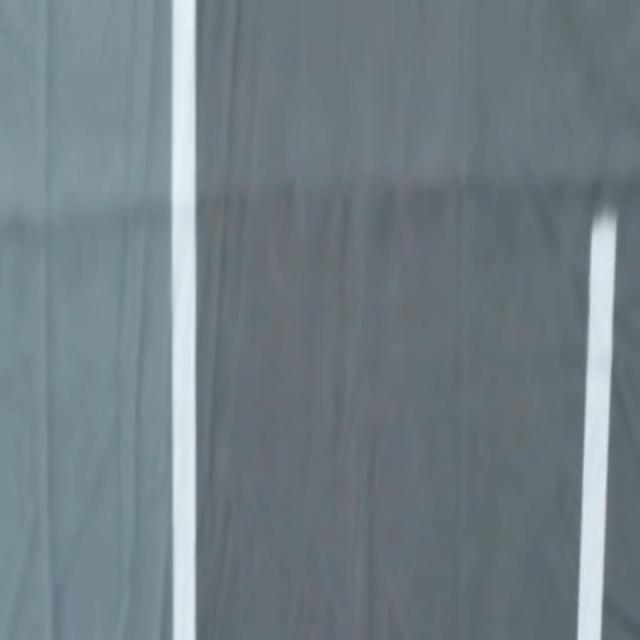center: (577, 205, 617, 639)
left: (172, 0, 196, 639)
